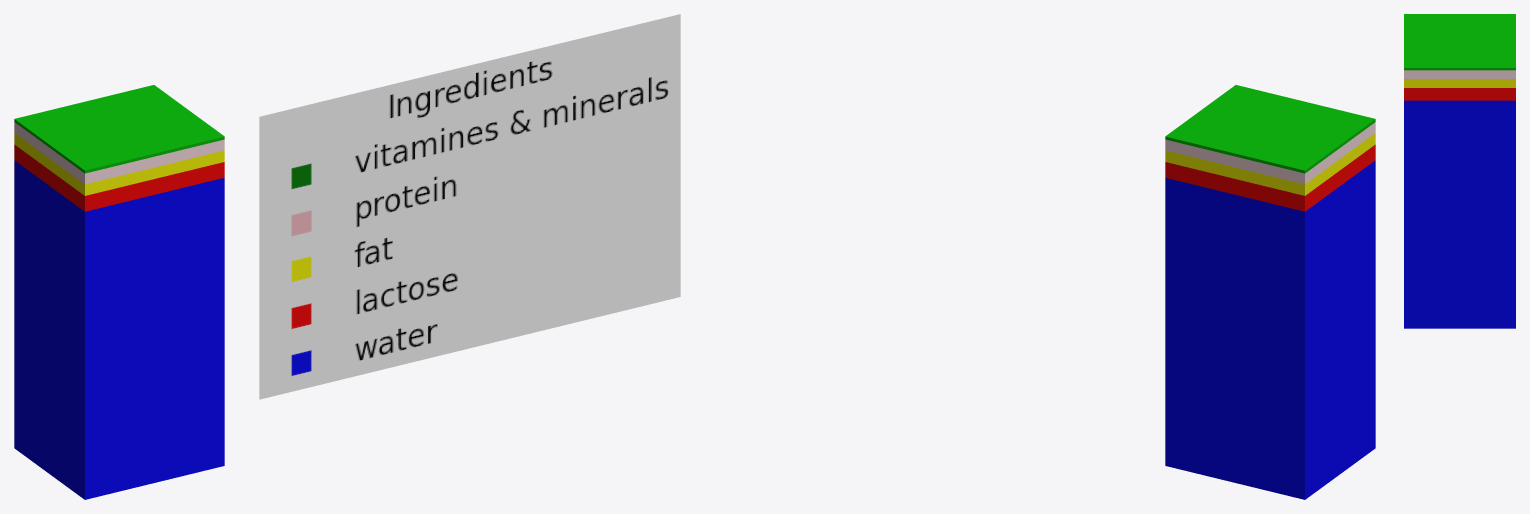
The model's file is ingredients.glb.
The picture shows the model from 3 angles, left to right: view 1: azimuth 30°, elevation 25°; view 2: azimuth 150°, elevation 25°; view 3: azimuth 270°, elevation 25°; orthographic projection. The views are drawn at different scales.
Parts seen in each view (by area): view 1: lc|>, DataRep.box.004, DataRep.box, DataRep.box.003, DataRep.box.002, DataRep.box.001; view 2: DataRep.box.004, DataRep.box, DataRep.box.003, DataRep.box.002, DataRep.box.001; view 3: DataRep.box.004, DataRep.box, DataRep.box.003, DataRep.box.001, DataRep.box.002.
Part boxes in pixels (box(x1,y1,x2,y2)): lc|>: box(259, 14, 680, 399); DataRep.box.004: box(14, 160, 224, 499); DataRep.box: box(14, 85, 224, 173); DataRep.box.003: box(14, 144, 224, 211); DataRep.box.002: box(14, 133, 224, 195); DataRep.box.001: box(14, 122, 224, 184); DataRep.box.004: box(1165, 160, 1375, 499); DataRep.box: box(1165, 85, 1375, 173); DataRep.box.003: box(1165, 144, 1375, 211); DataRep.box.002: box(1165, 133, 1375, 195); DataRep.box.001: box(1165, 122, 1375, 184); DataRep.box.004: box(1404, 100, 1515, 328); DataRep.box: box(1404, 14, 1515, 70); DataRep.box.003: box(1404, 88, 1515, 100); DataRep.box.001: box(1404, 70, 1515, 78); DataRep.box.002: box(1404, 79, 1515, 87).
Size of the model in its own units: 0.361 by 0.18 by 0.07.
Materials: 6 (1 with a texture image).
